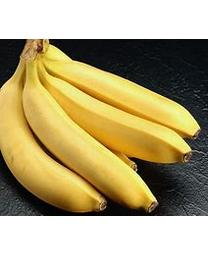banana: (0, 40, 194, 212)
